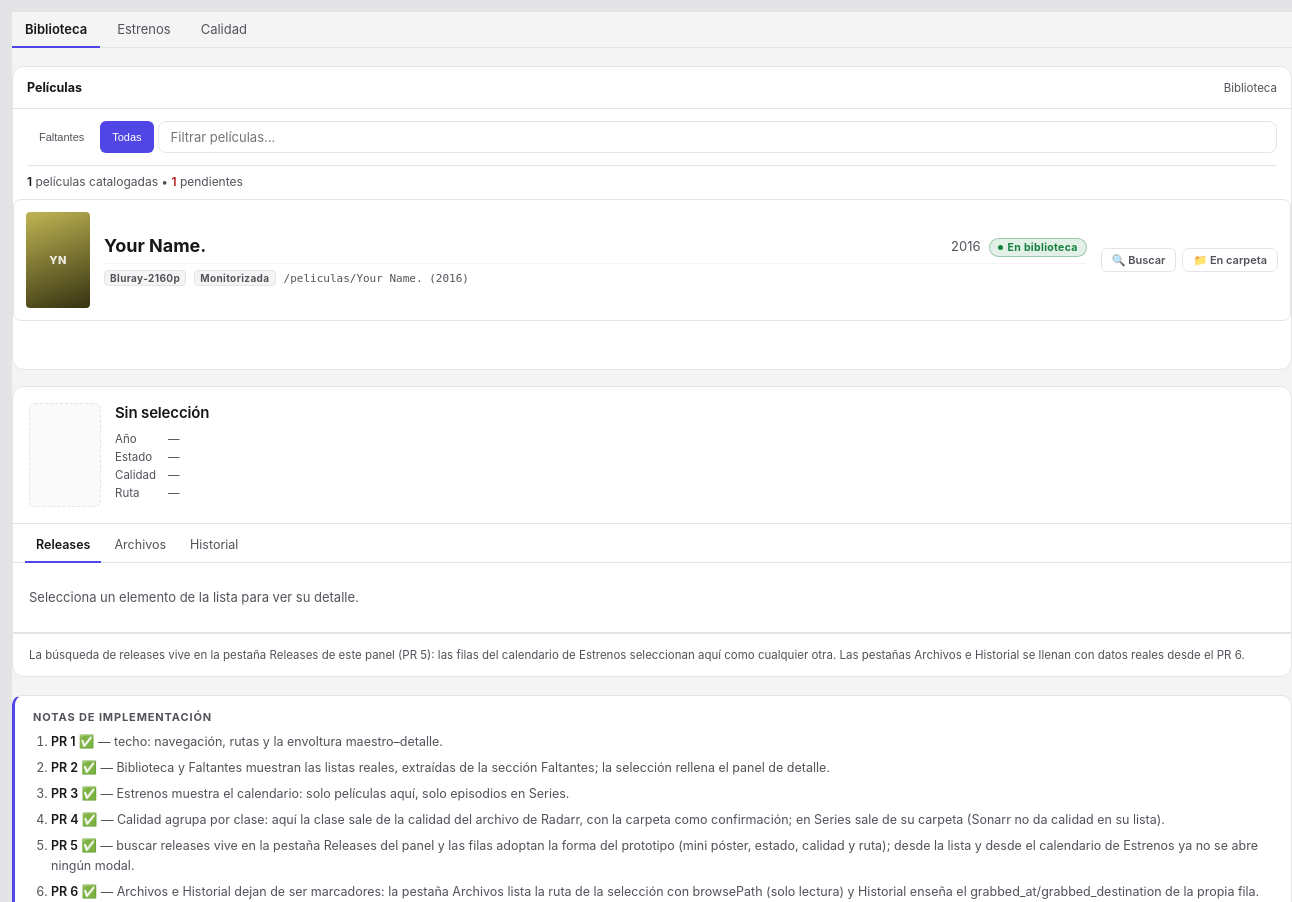
it: monitored chip · wiring through the sections › the wanted queue (no field) shows no chip on any row
Expected: the text "Your Name." is shown, [104, 235, 206, 256]
Click the button "Faltantes". click: (62, 137)
box: [27, 121, 96, 153]
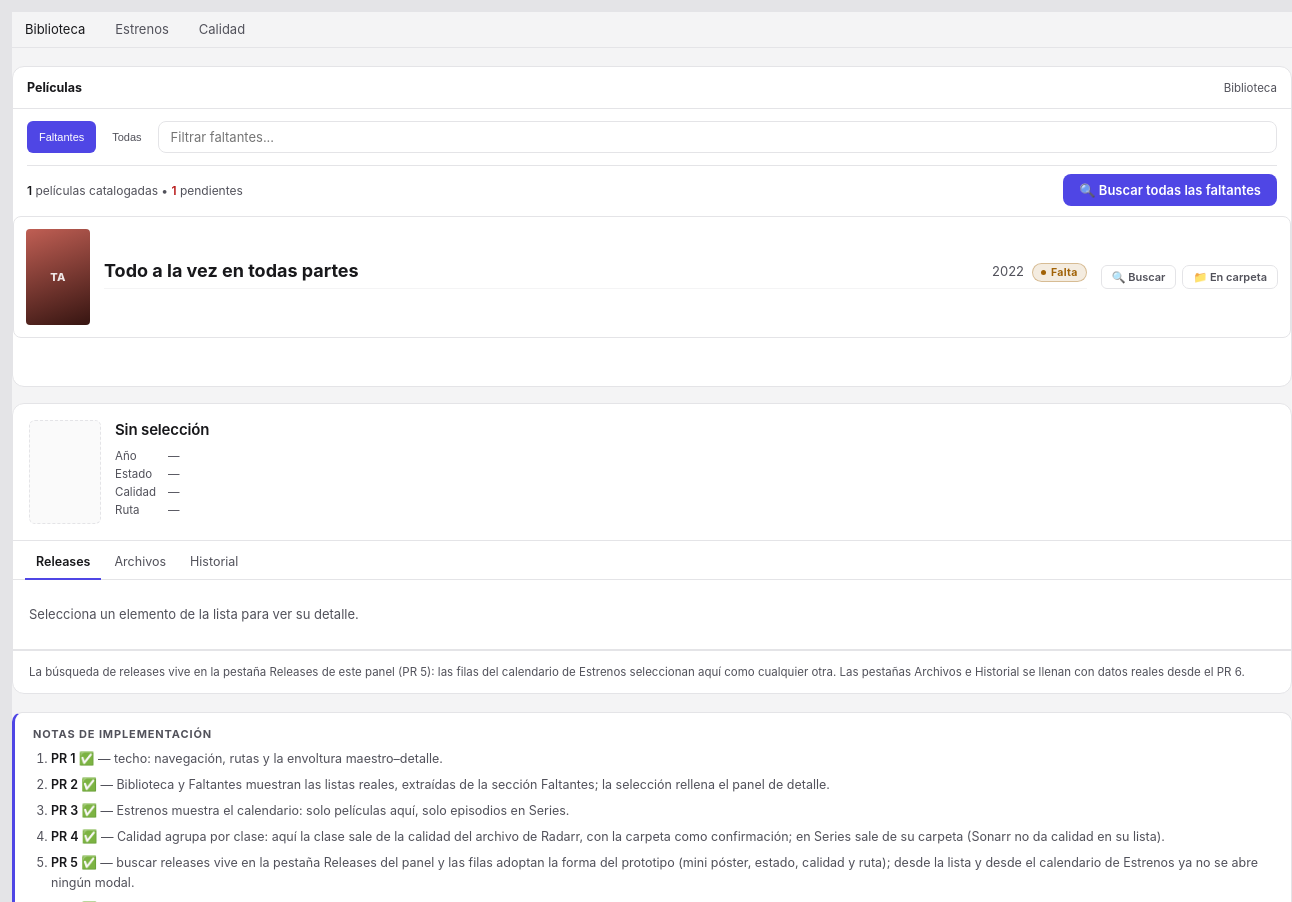
Expected: the text "Todo a la vez en todas partes" is shown, [104, 260, 359, 281]
Expected: the text with class "sec-mon-tag" is gone
